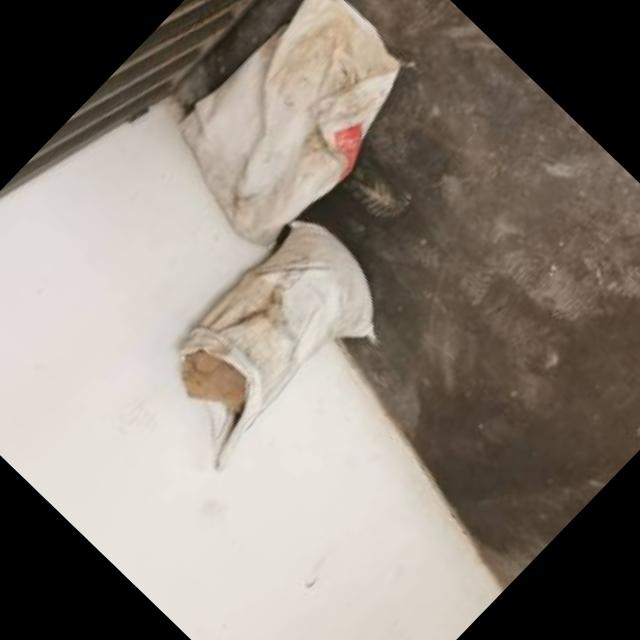KantongSemen: (127, 205, 404, 485), (153, 0, 433, 258)
